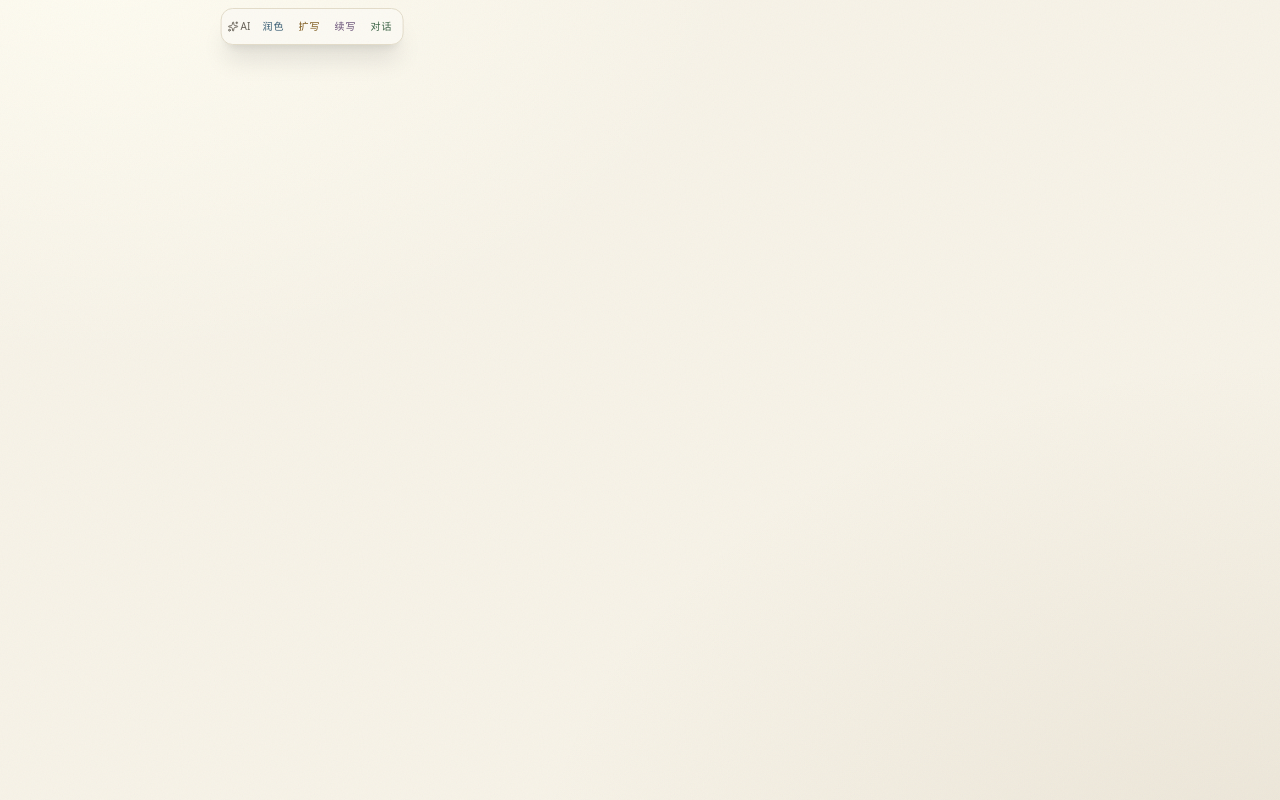
Test: CodeMirror editor AI generation boundary › keeps a length-limited result non-applicable while closing its model lease
Click the button "润色": (273, 26) [256, 13, 290, 40]
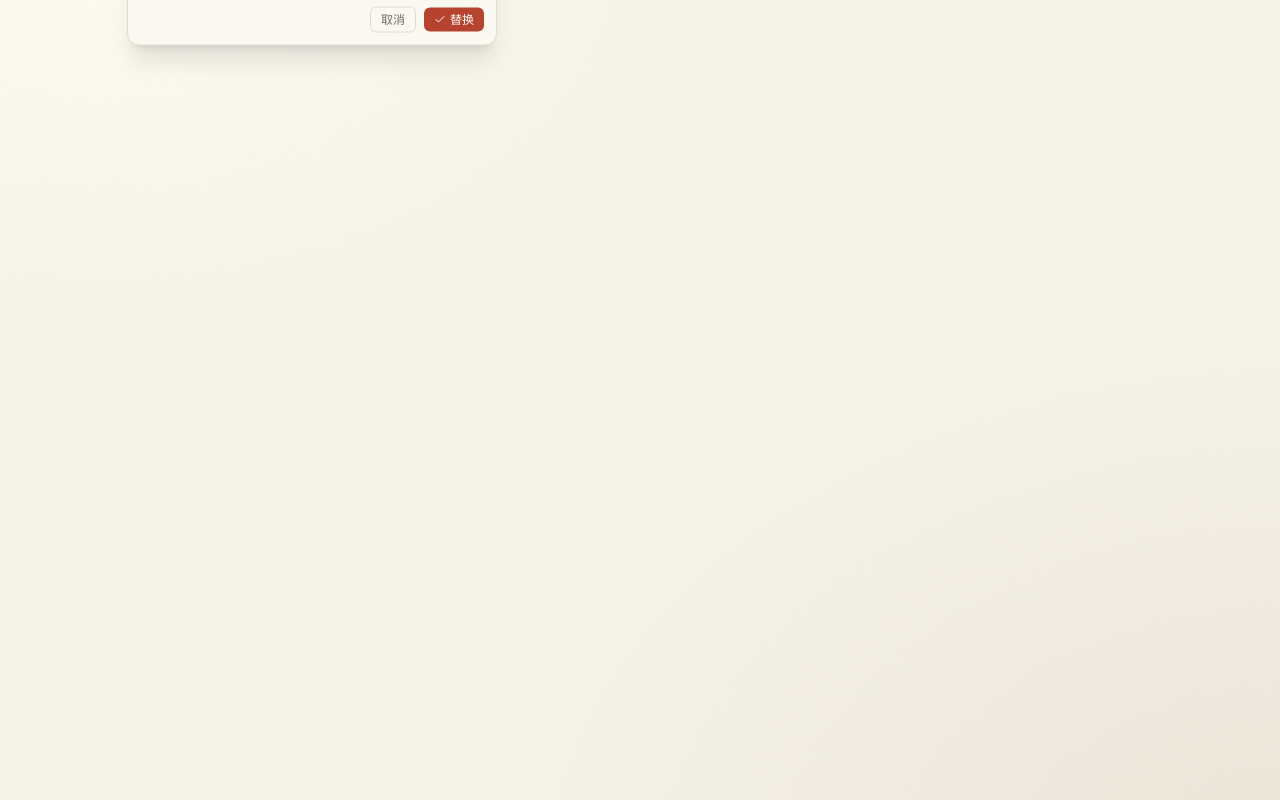
Now the button "替换" is disabled, box [424, 7, 484, 31]
